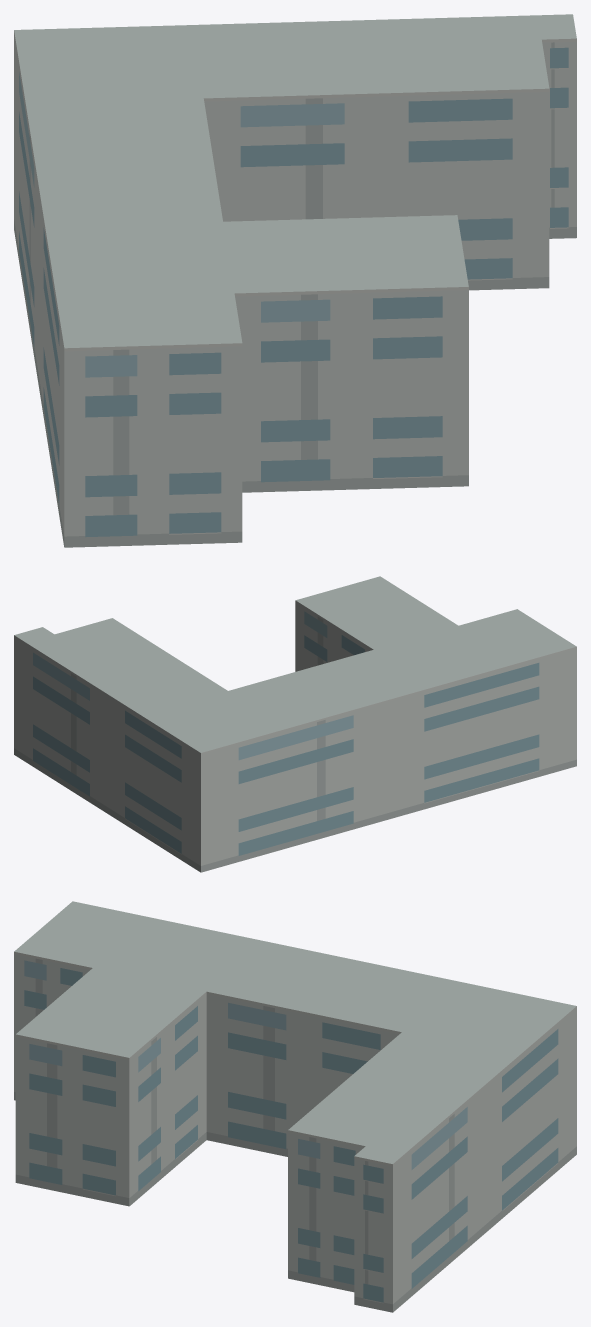
Rendered from residential-14b9e673-7f8d-4ce3-92cd-06a80bc69b12.glb.
The picture shows the model from 3 angles, top to bottom: view 1: azimuth 30°, elevation 25°; view 2: azimuth 150°, elevation 25°; view 3: azimuth 270°, elevation 25°; orthographic projection. The views are drawn at different scales.
Parts seen in each view (by area): view 1: residential-14b9e673-7f8d-4ce3-92cd-06a80bc69b12.tmp; view 2: residential-14b9e673-7f8d-4ce3-92cd-06a80bc69b12.tmp; view 3: residential-14b9e673-7f8d-4ce3-92cd-06a80bc69b12.tmp.
Part boxes in pixels (<box>): residential-14b9e673-7f8d-4ce3-92cd-06a80bc69b12.tmp: <box>14,14,576,547</box>; residential-14b9e673-7f8d-4ce3-92cd-06a80bc69b12.tmp: <box>14,576,576,872</box>; residential-14b9e673-7f8d-4ce3-92cd-06a80bc69b12.tmp: <box>14,901,576,1312</box>.
Size of the model in its own units: 57.92 by 15.25 by 52.4.
